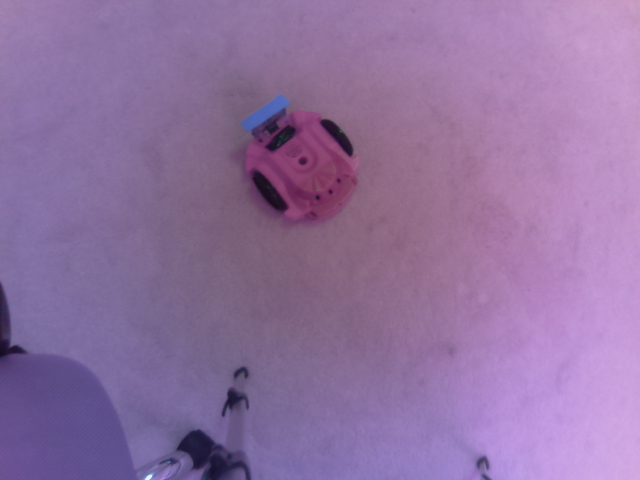board: (237, 90, 289, 135)
chassis: (237, 87, 365, 230)
